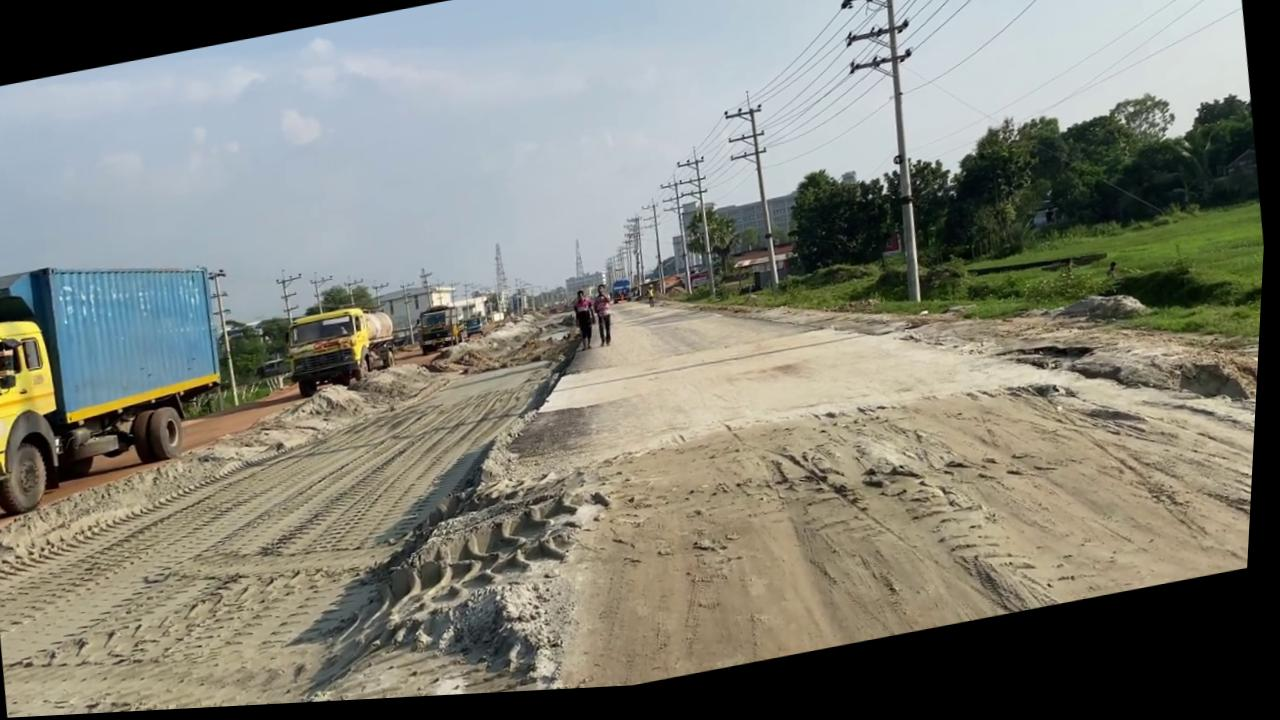Light-pole: (819, 0, 952, 323)
Muddy road: (0, 325, 517, 720)
Obstacle: (0, 234, 246, 519)
Pole: (713, 93, 792, 306), (205, 269, 250, 411)
Rickshaw: (462, 223, 1061, 496)
Traffic-sign: (680, 205, 748, 295)
Tree: (282, 301, 405, 403), (413, 304, 473, 362), (363, 309, 403, 376), (612, 283, 636, 311), (665, 279, 690, 303)
